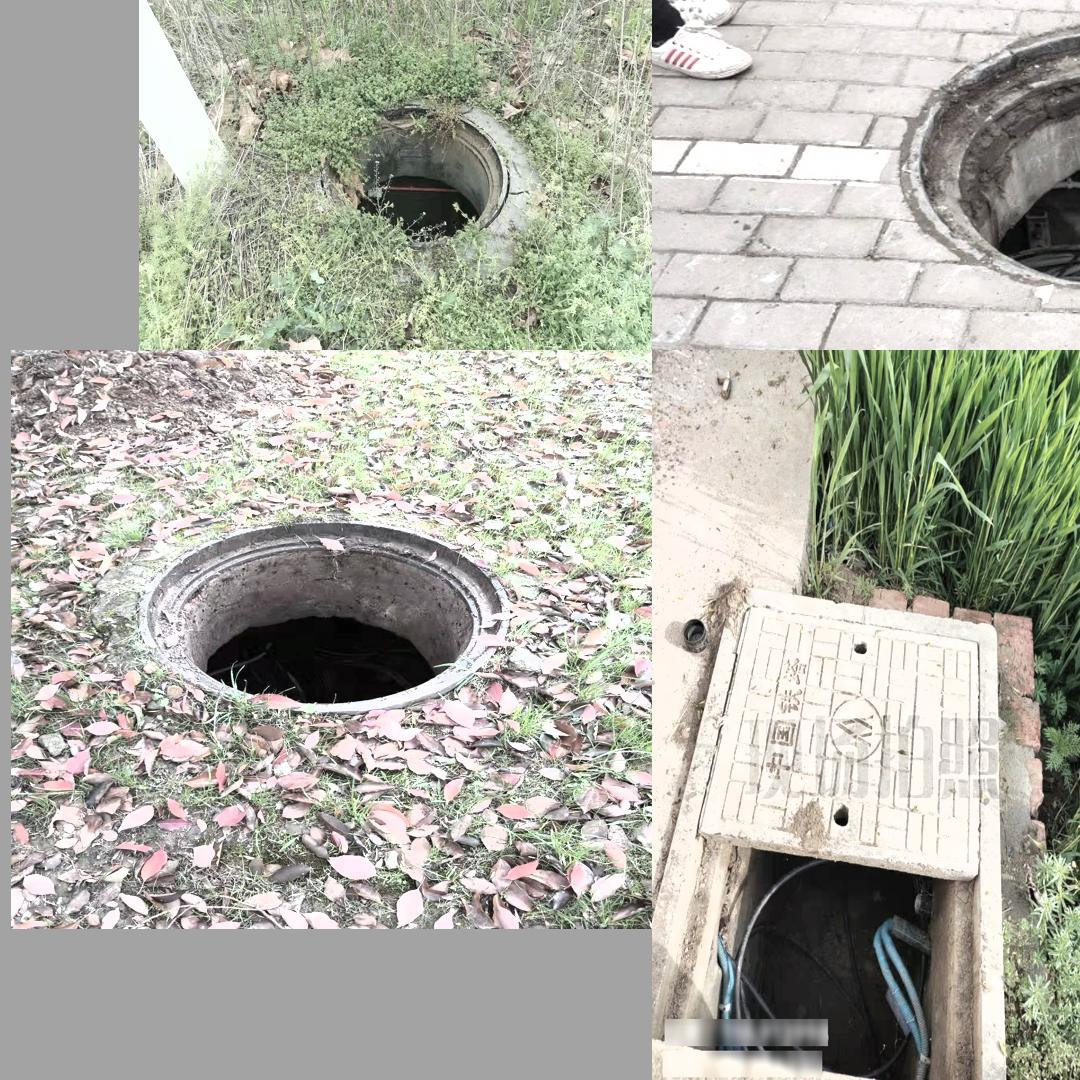lose: (672, 571, 994, 1080), (139, 520, 511, 714), (893, 12, 1080, 301), (317, 105, 508, 248)
